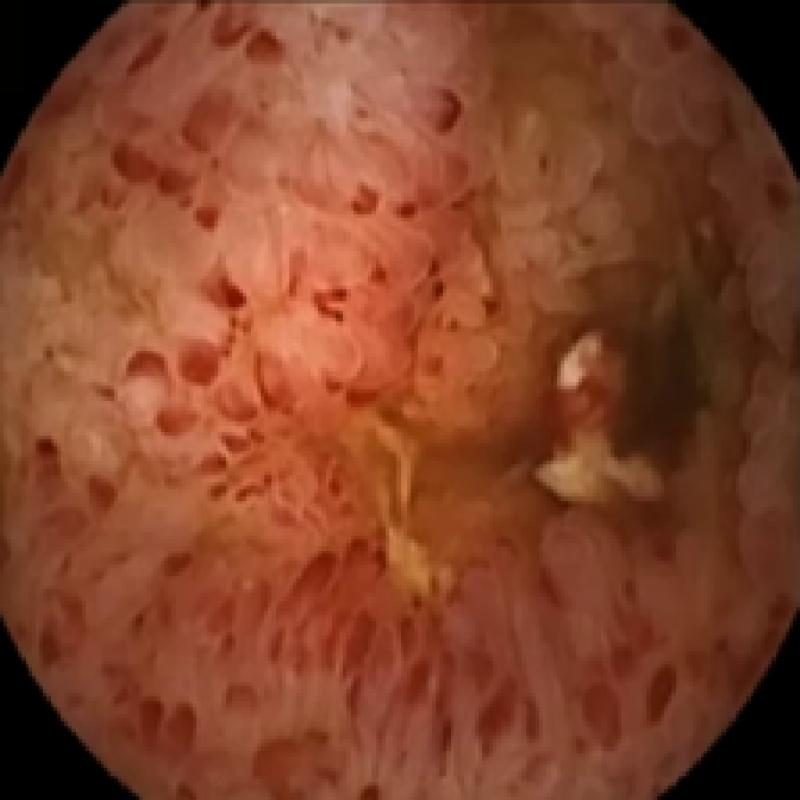bleeding: (48, 278, 708, 800), (336, 89, 469, 274), (96, 121, 228, 233), (207, 0, 293, 79)
